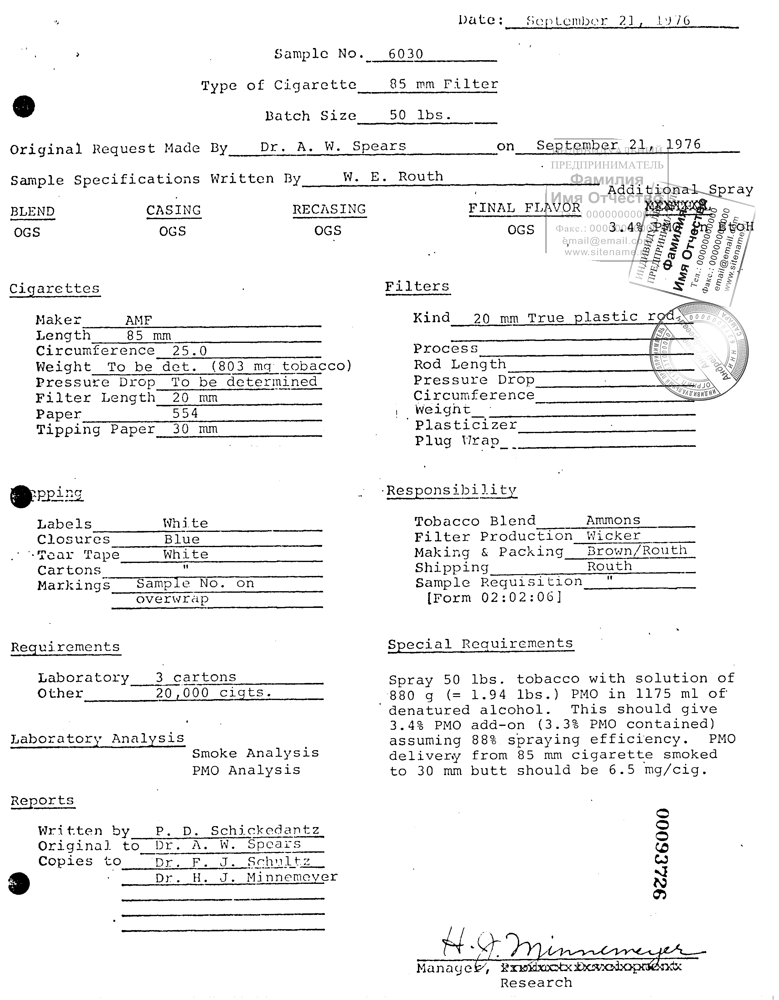circle: (629, 281, 769, 421)
rectangle: (626, 179, 758, 310), (545, 138, 669, 262)
